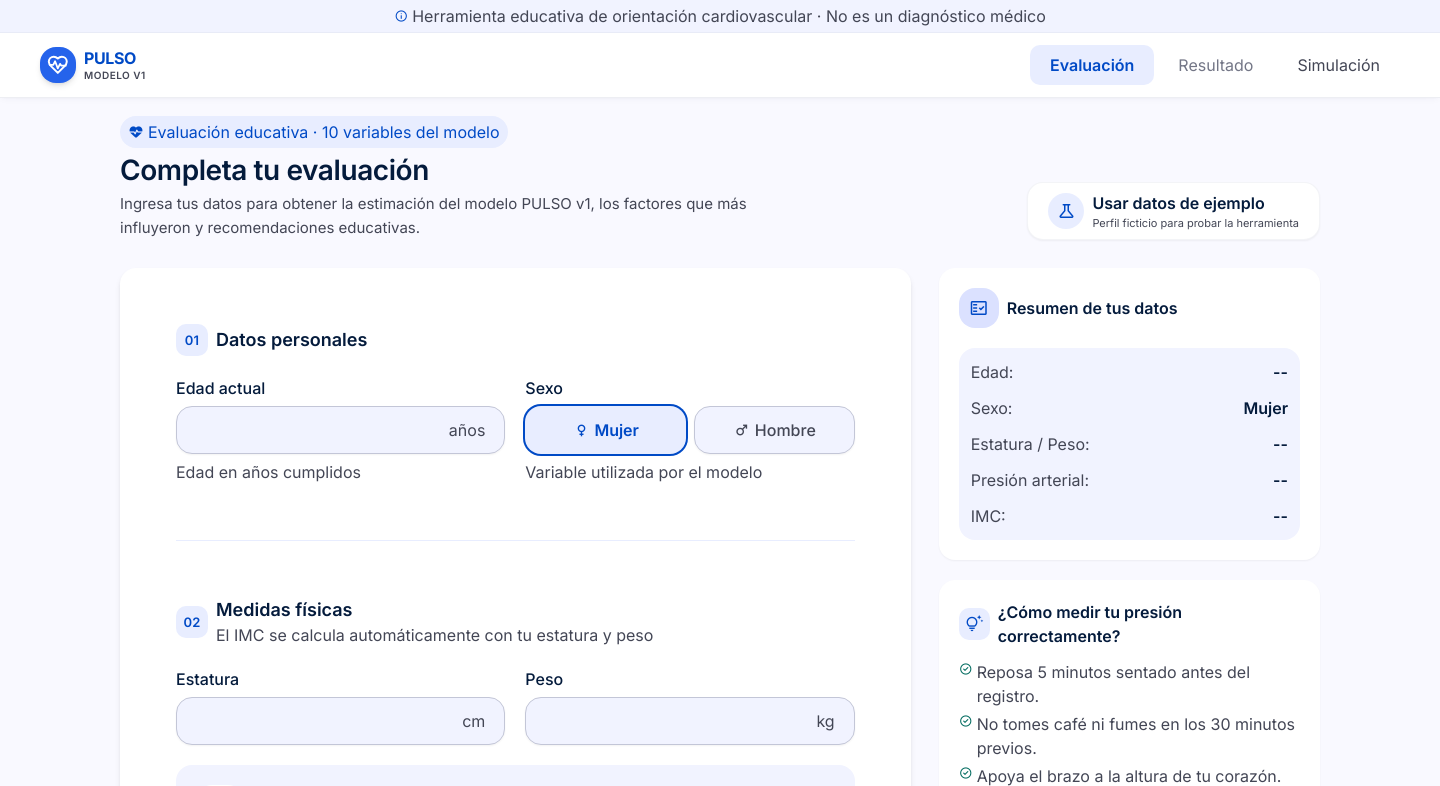
it: validación de rangos del formulario › rechaza edad con valor 39
Step 1. Type "47" into the number field labelled "Edad actual" → (341, 430), box [176,406,505,454]
Step 2. Type "170" into the number field labelled "Estatura" → (341, 721), box [176,697,505,745]
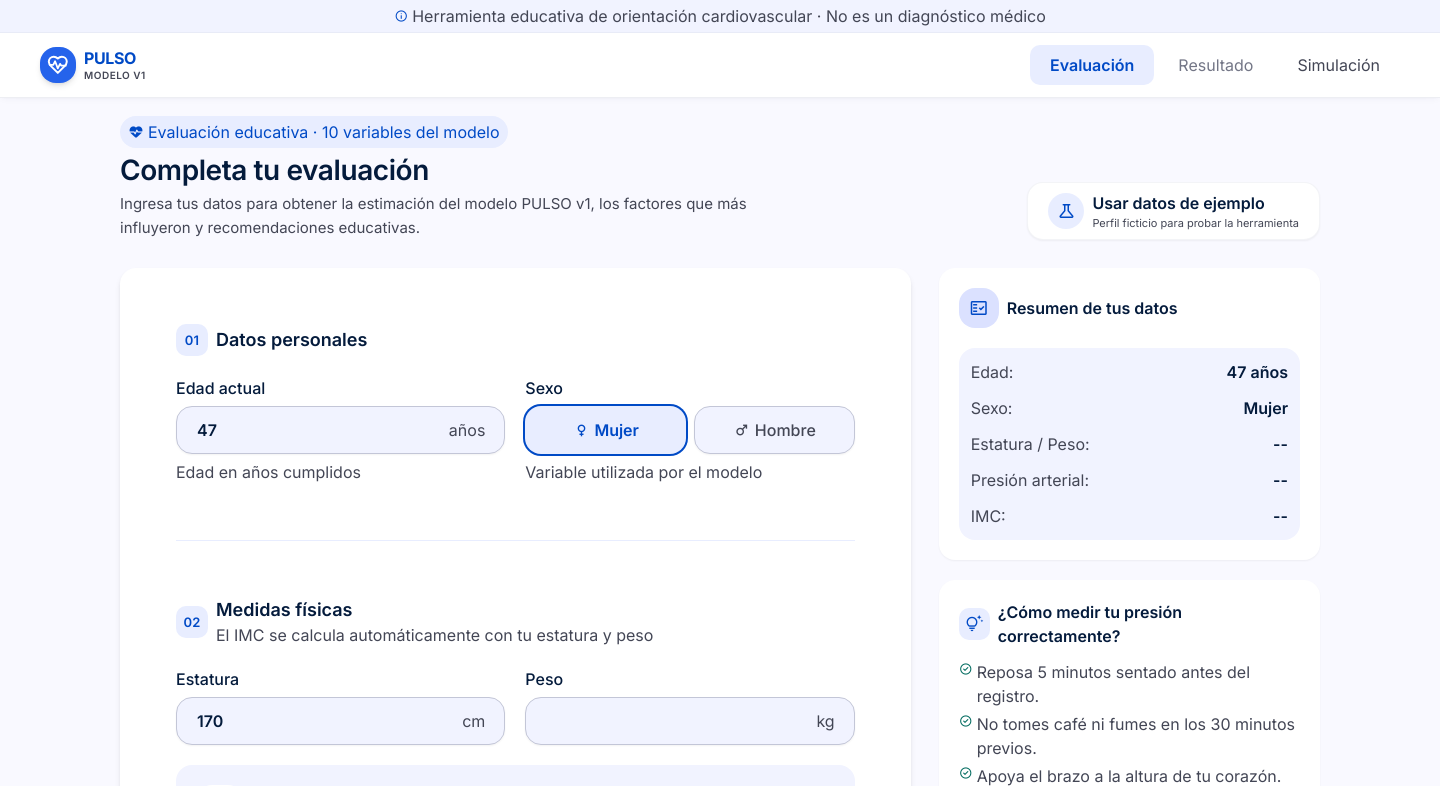
Step 3. Type "80" into the number field labelled "Peso" → (690, 721), box [525,697,855,745]
(page scrolled)
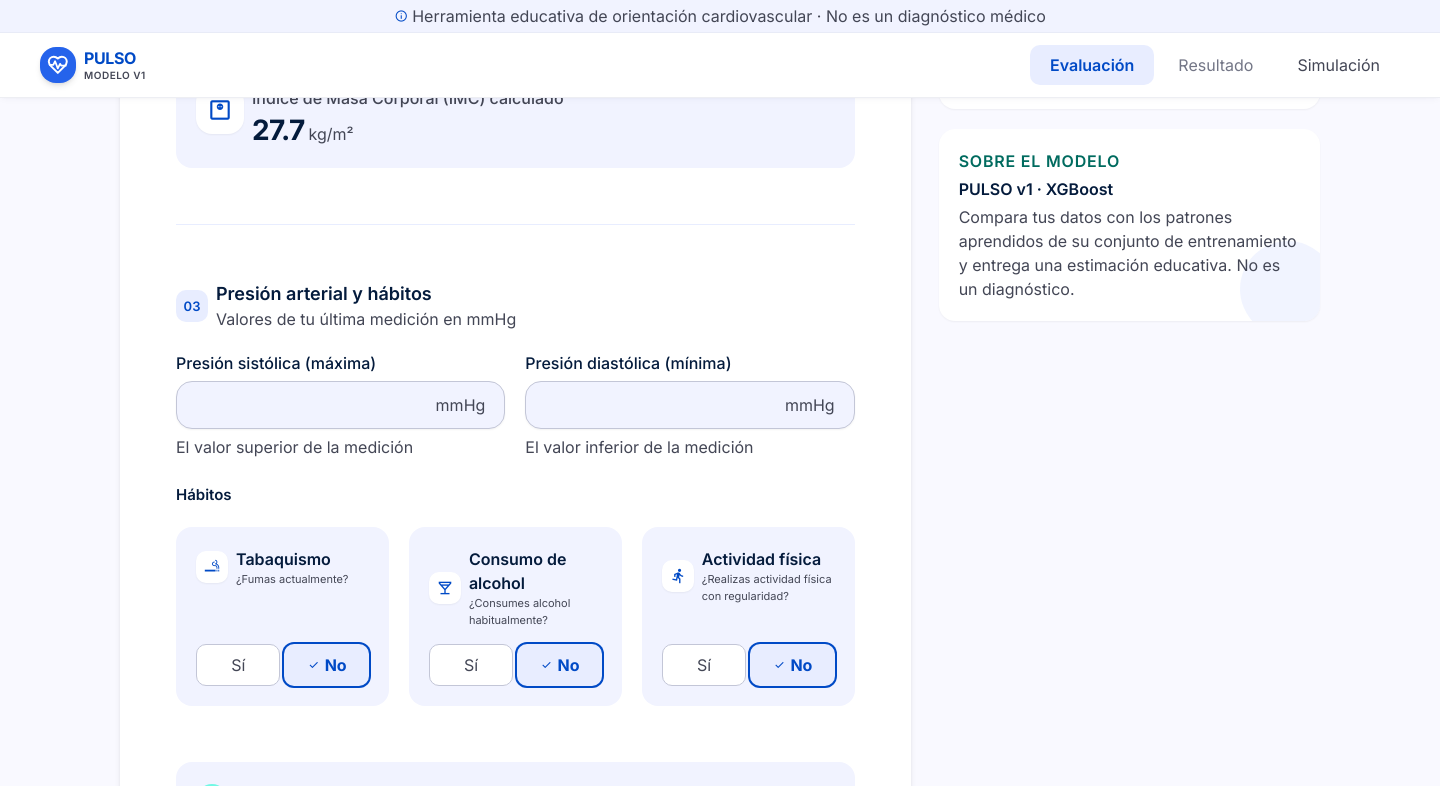
Step 4. Type "128" into the number field labelled "Presión sistólica (máxima)" → (341, 405), box [176,381,505,429]
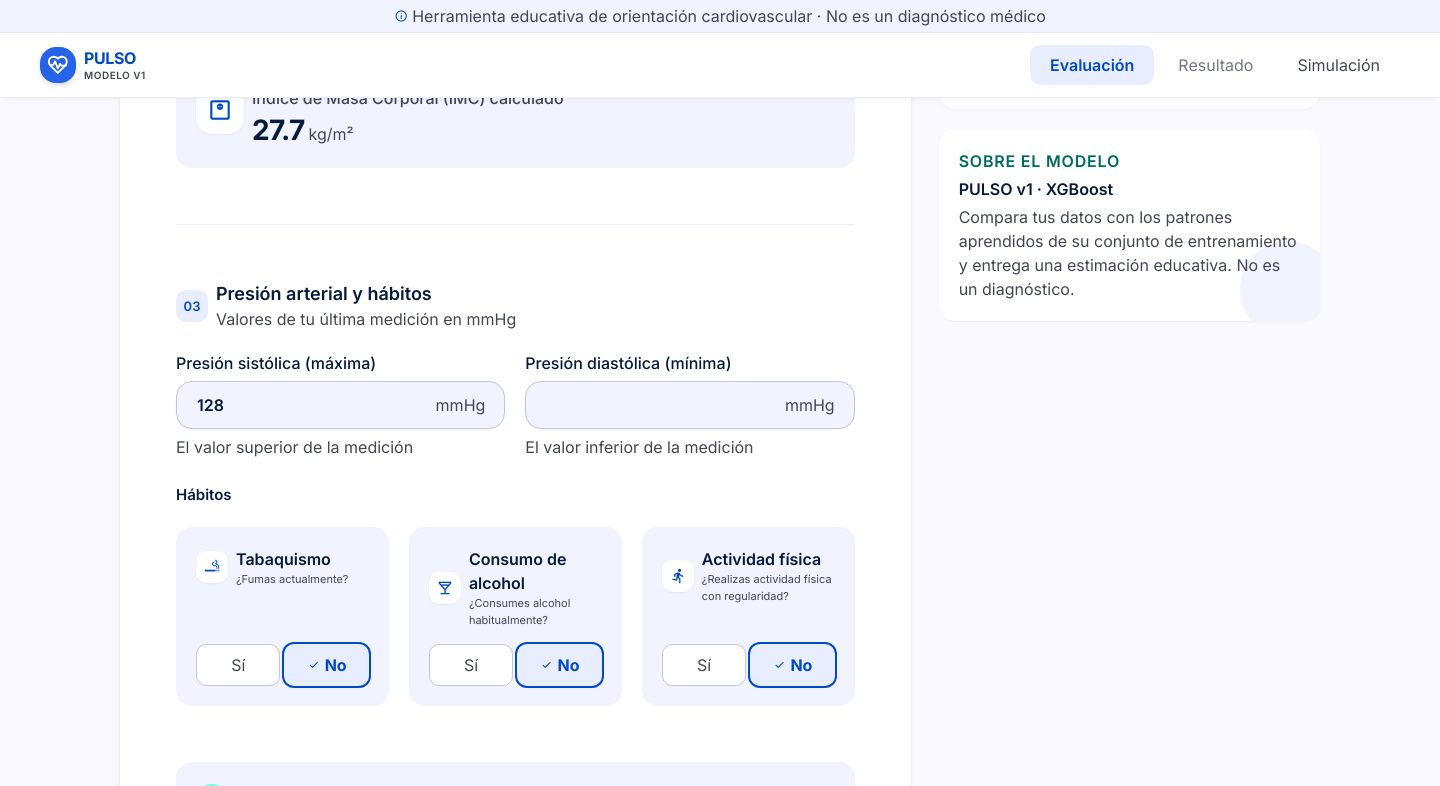
Step 5. Type "82" into the number field labelled "Presión diastólica (mínima)" → (690, 405), box [525,381,855,429]
(page scrolled)
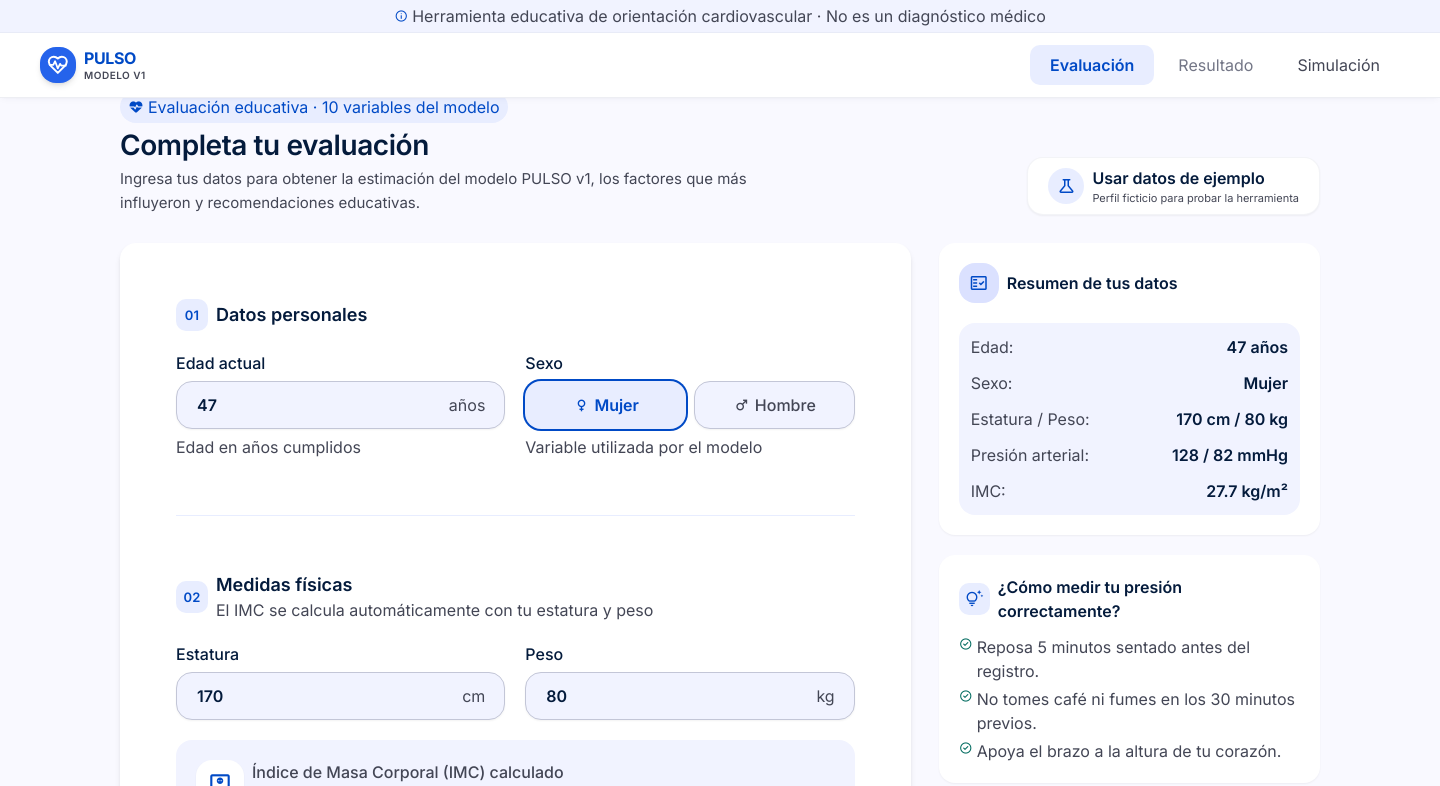
Step 6. Replace the text in the number field labelled "Edad actual" with "39" → (341, 405), box [176,381,505,429]
(page scrolled)
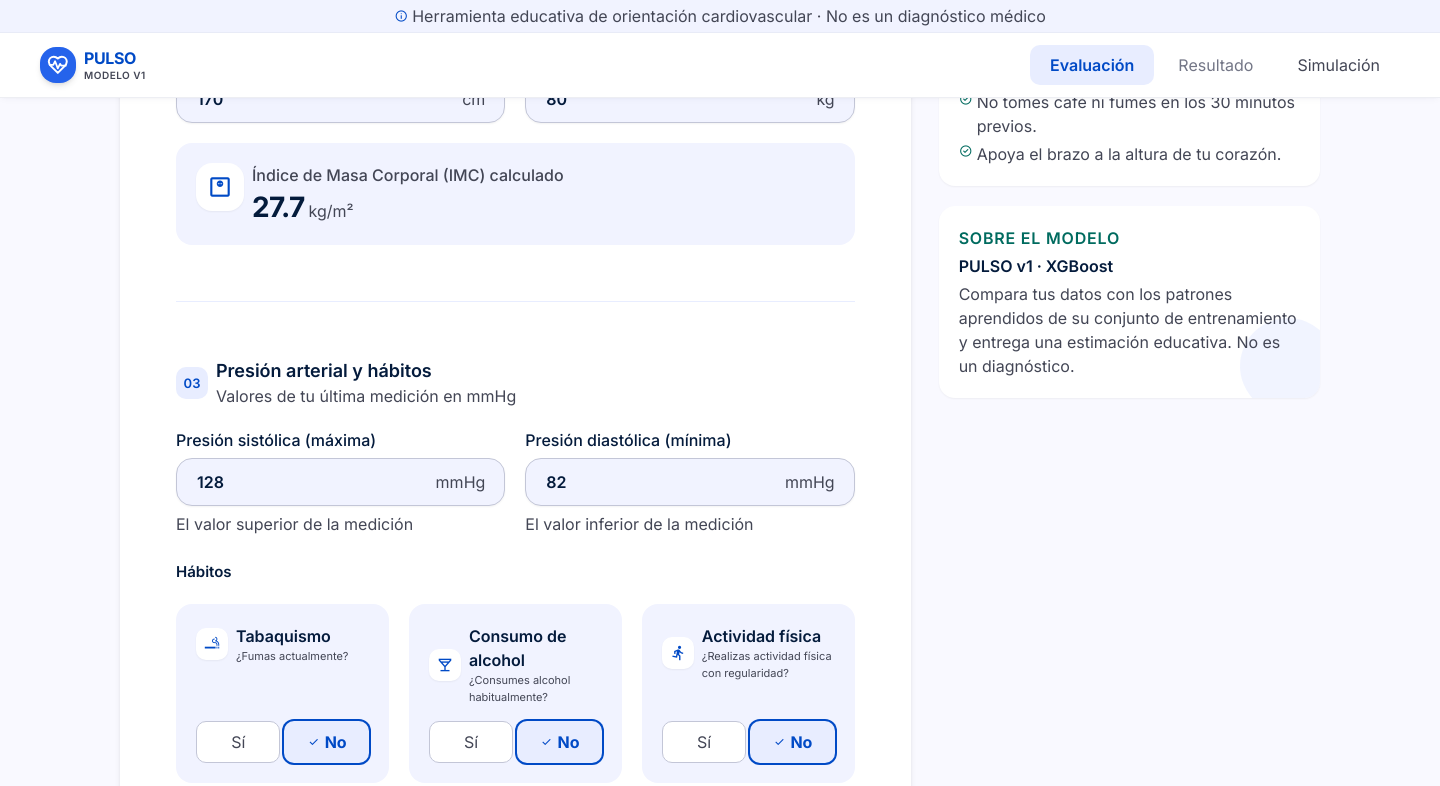
Step 7. Submit the form labelled "Edad actual"
(page scrolled)
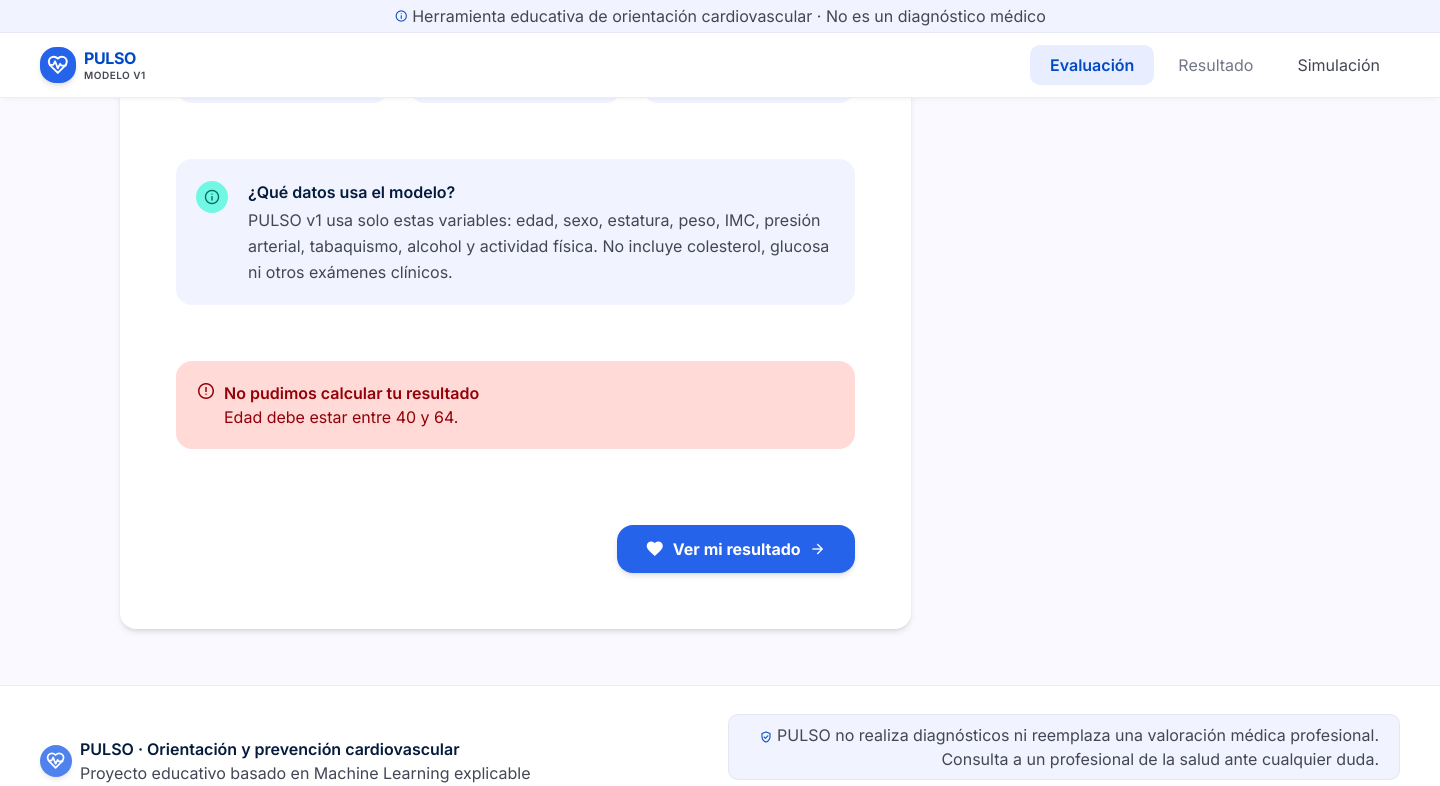
Expected: the text "Edad debe estar entre 40 y 64." is shown, [224,407,458,427]
